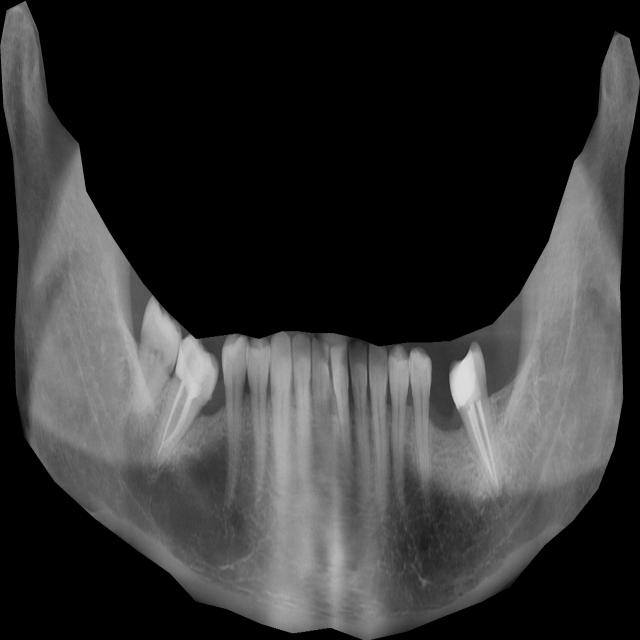mandibula: (0, 1, 640, 640)
